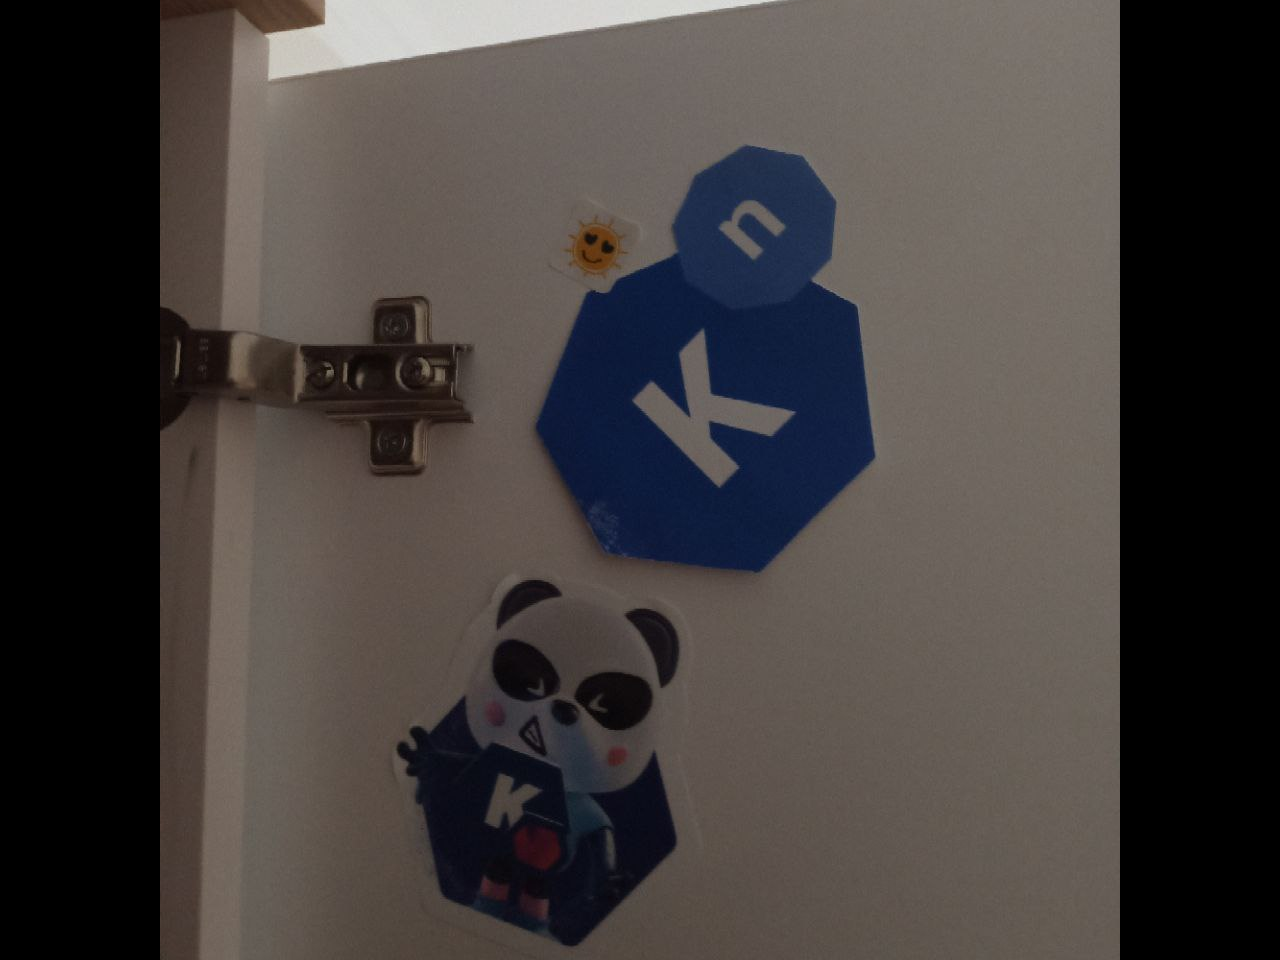knative: (533, 145, 880, 574)
